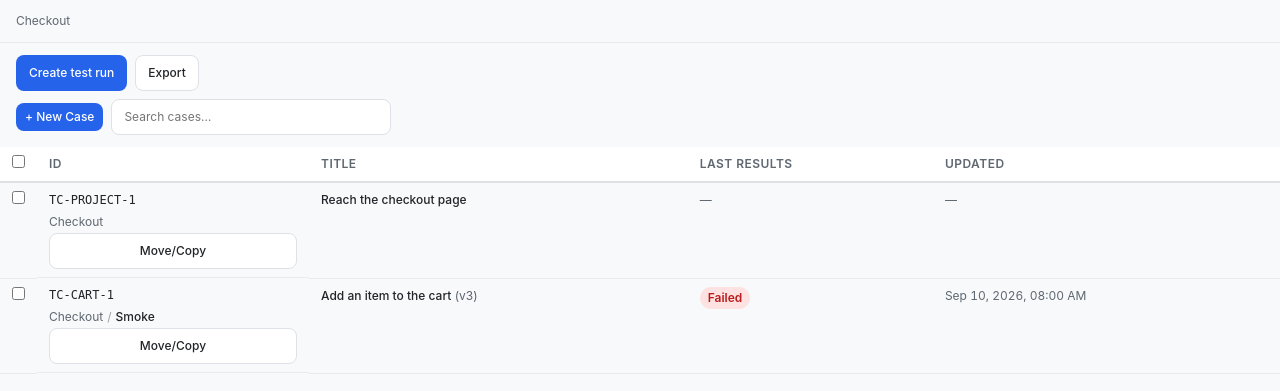
it: CaseList › filters the table from the search input without a request
Check: the number of rows is 3, box [0,147,1279,182]; [0,182,1279,278]; [0,278,1279,373]
In the search field labelled "Search cases": x=251, y=117 [111,99,391,135], type "cart"
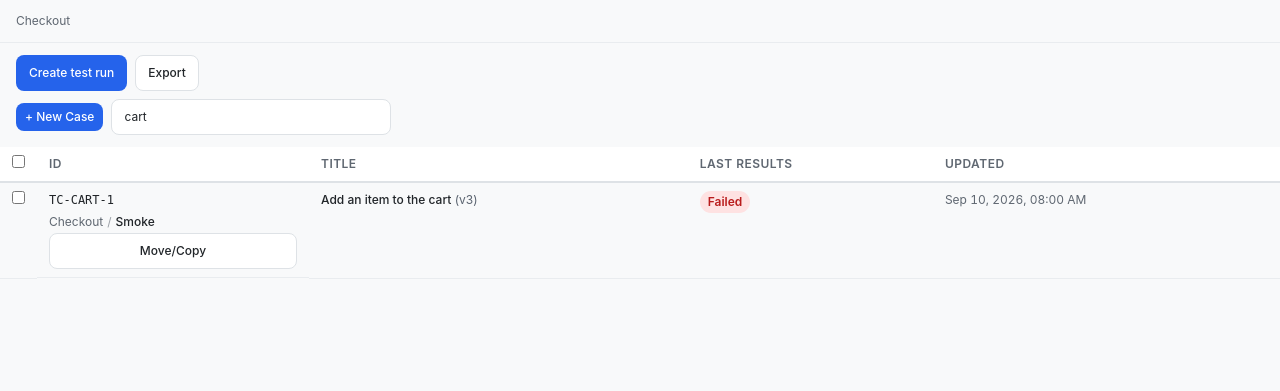
Check: the number of rows is 2, box [0,147,1279,182]; [0,182,1279,278]
Check: the text "Reach the checkout page" is gone
Replace the text in the search field named "Search cases" with "nothing matches": x=251, y=117 [111,99,391,135]
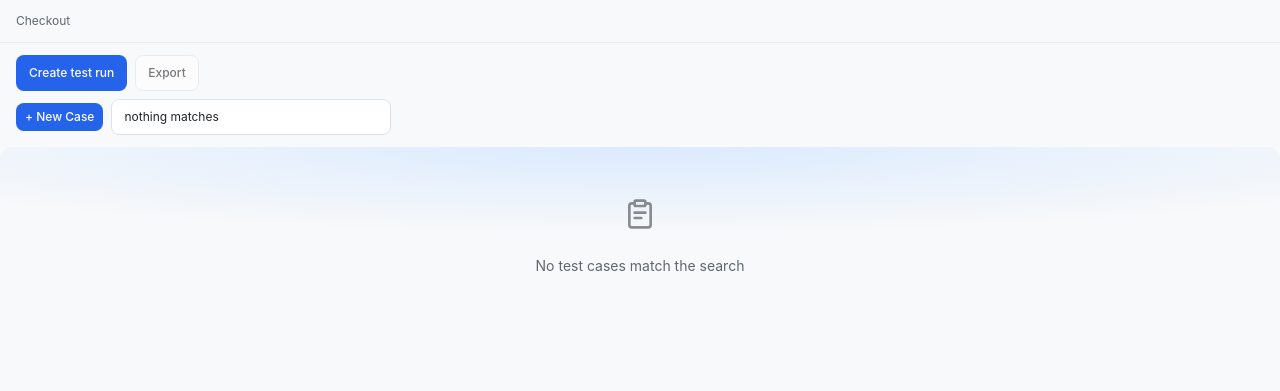
Check: the text "No test cases match the search" is shown, box [536,255,744,276]
